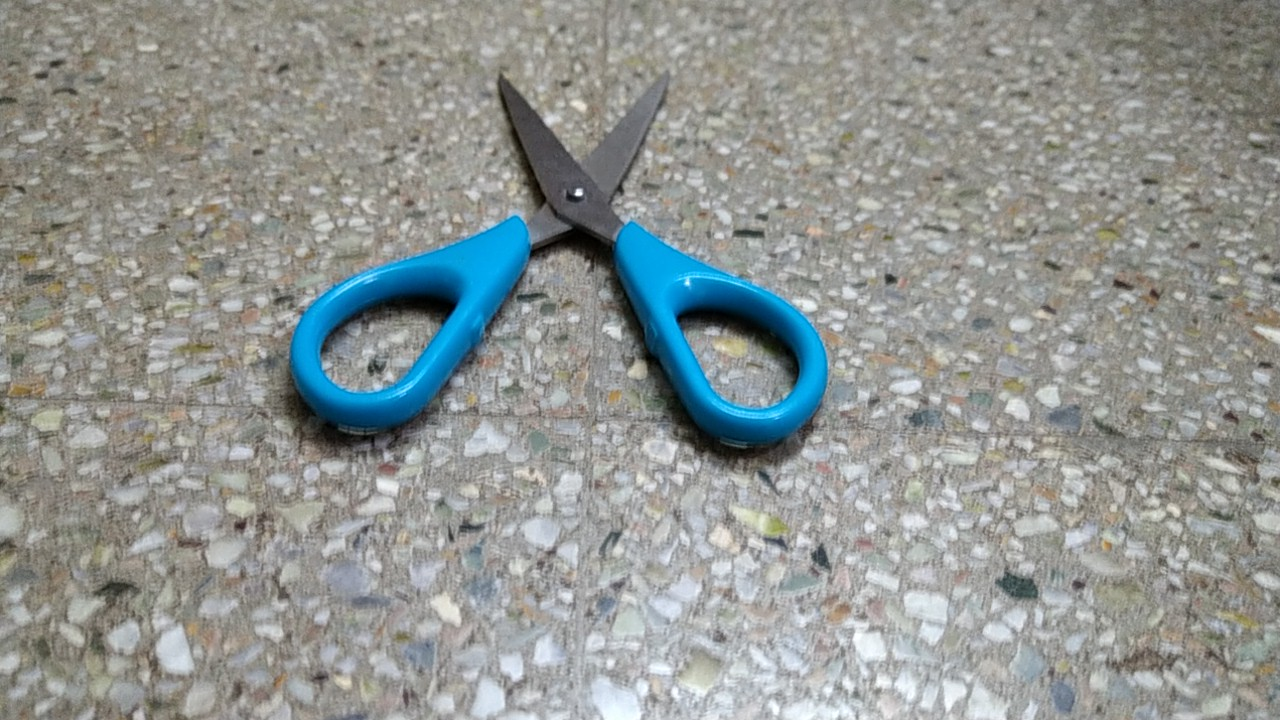scissor: (271, 40, 847, 491)
